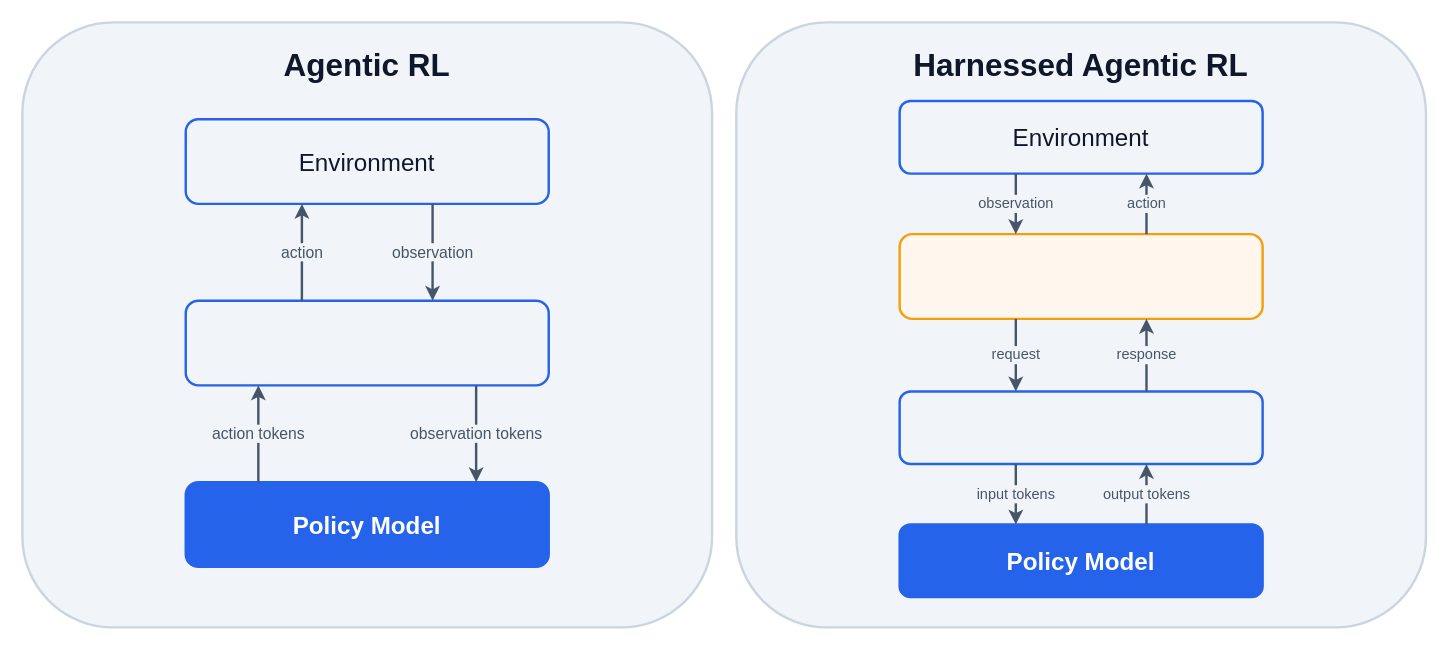
The diagram is 1447 pixels wide and 649 high, and some of its shapes have lost their labels. The centre of each missing label's shape, as x and y in pixels:
(De)Tokenizer: point (366, 342)
Agent Harness Context and orchestration: point (1080, 275)
OAI-like API: point (1080, 427)
